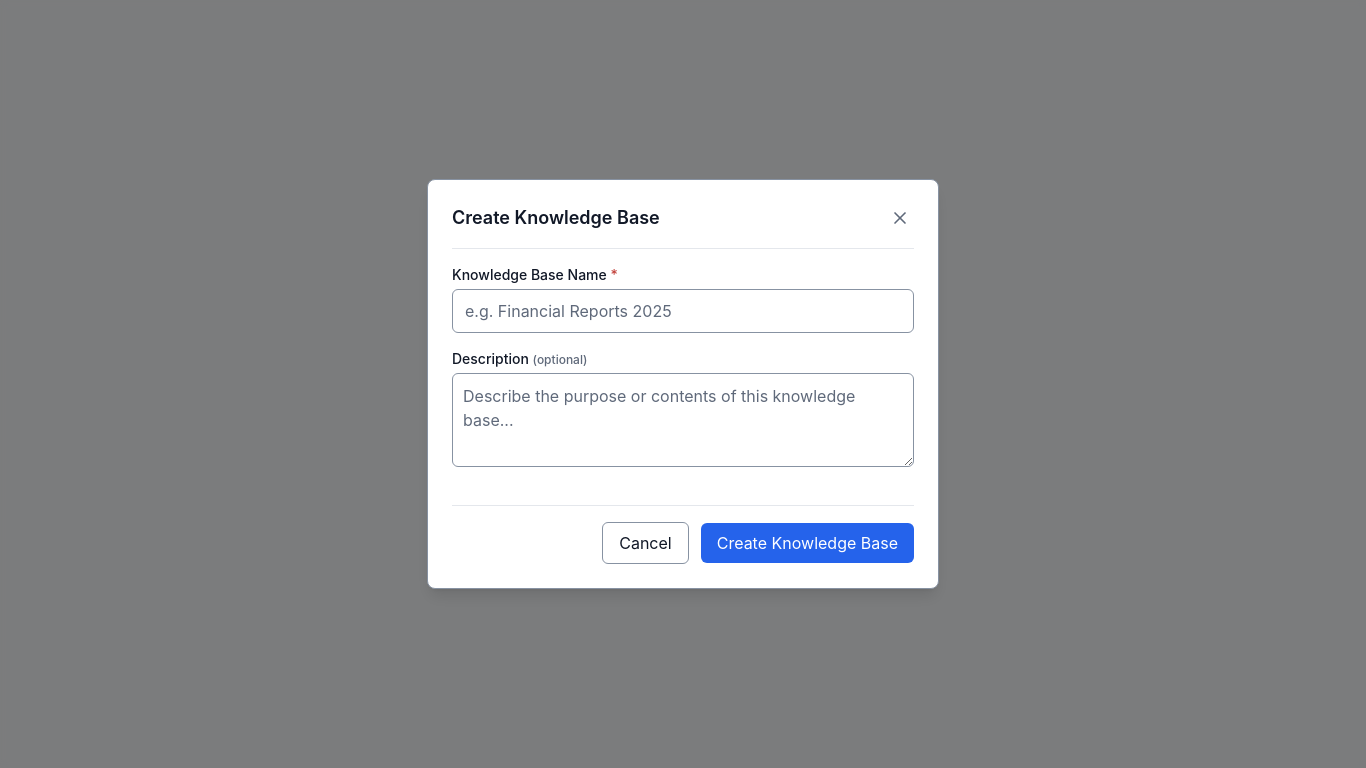
Test: Phase 5C UI Components › KBModal validates name field before submitting
Click the button "Create Knowledge Base". click: (807, 543)
box: [701,523,914,563]
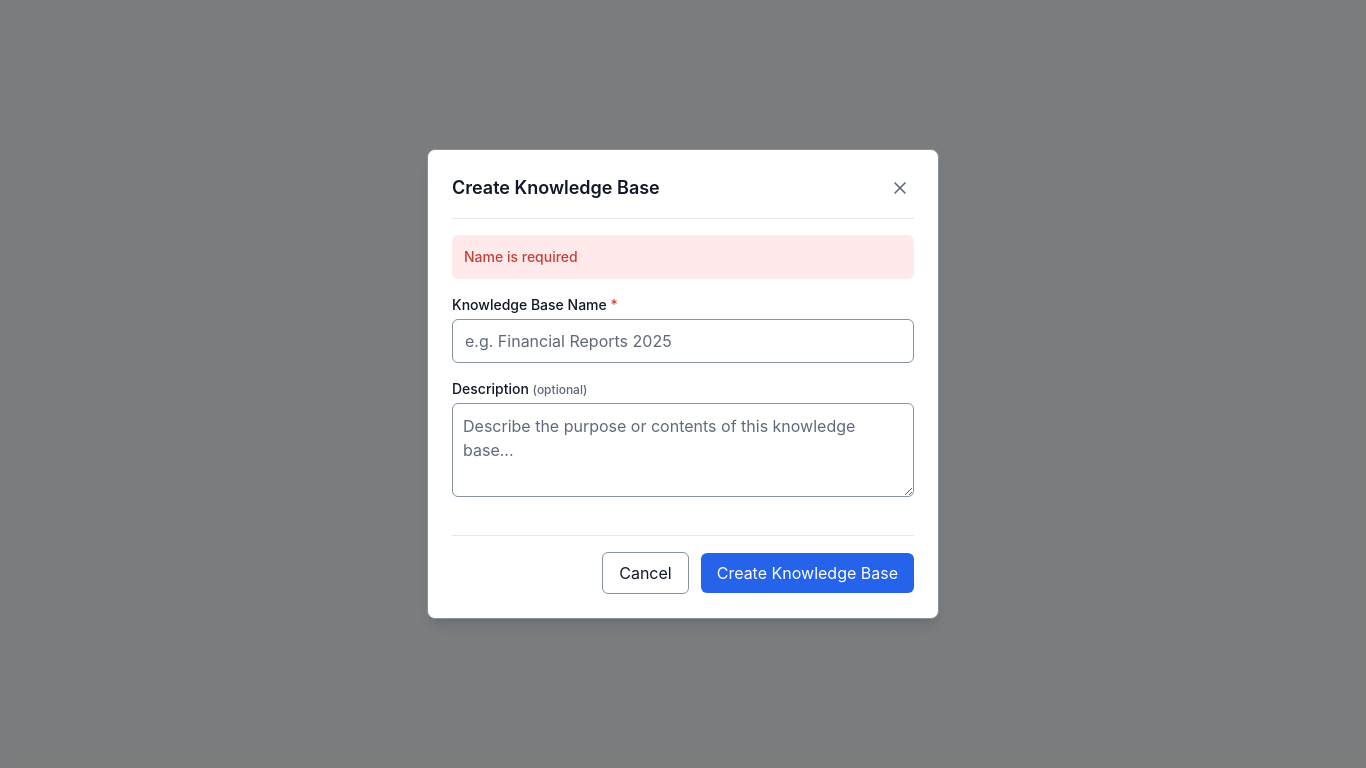
expect the message reads "Name is required": met, box [464,248,578,265]
